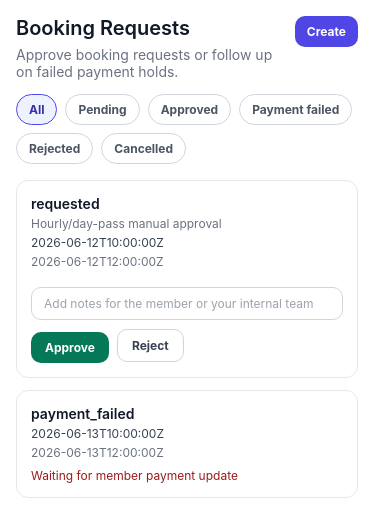
Scenario: OwnerBookingsScreen request decisions › approves a pending request with operator notes and reloads
Expected: the button with aria-label "Approve req_1" is shown, [31,332,109,363]
In the field named "Operator notes for req_1": (187, 304) [31,287,343,320], type "See you at 10"
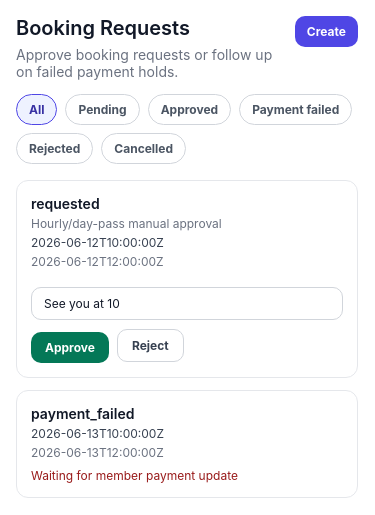
Click the button with aria-label "Approve req_1": click(70, 348) [31,332,109,363]
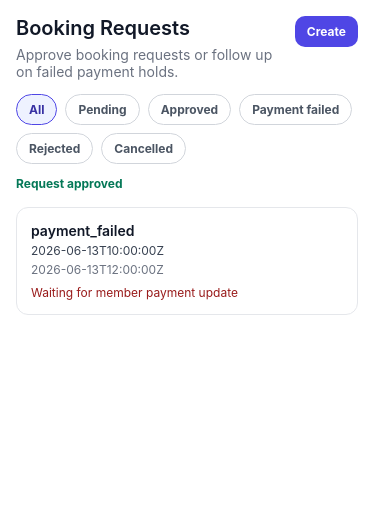
Result: the text "Request approved" is shown at [16,176,122,191]
Result: the text "requested" is gone
